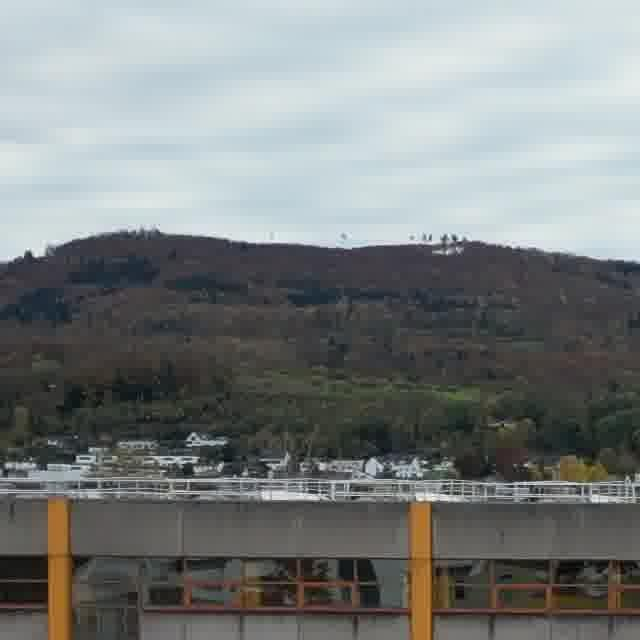Drohne: (490, 421, 515, 429)
